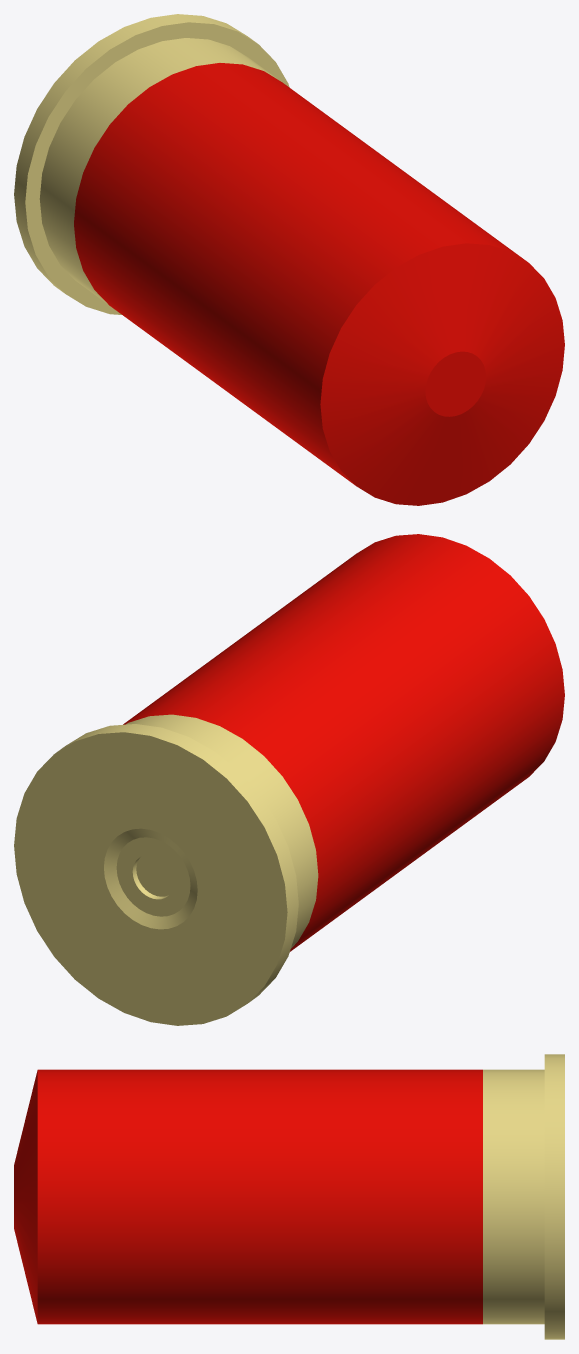
File: Shell.fbx
3 renders of one model, top to bottom at view 1: azimuth 30°, elevation 25°; view 2: azimuth 150°, elevation 25°; view 3: azimuth 270°, elevation 25°, orthographic. The views are drawn at different scales.
Visible parts, largest first — view 1: Cylinder.002; view 2: Cylinder.002; view 3: Cylinder.002.
Part boxes in pixels (bbox=[...]): Cylinder.002: bbox=[14, 14, 564, 505]; Cylinder.002: bbox=[14, 534, 564, 1025]; Cylinder.002: bbox=[14, 1054, 564, 1339].
Size of the model in its own units: 164 by 164 by 317.
